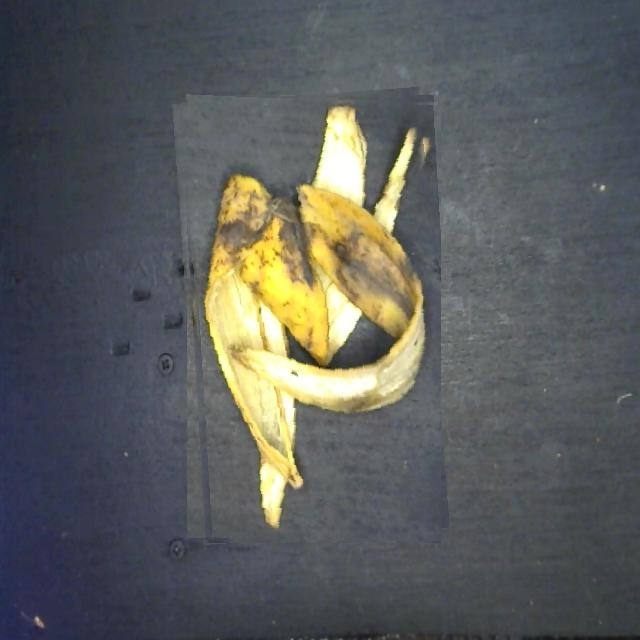biodegradable: (180, 91, 442, 544)
